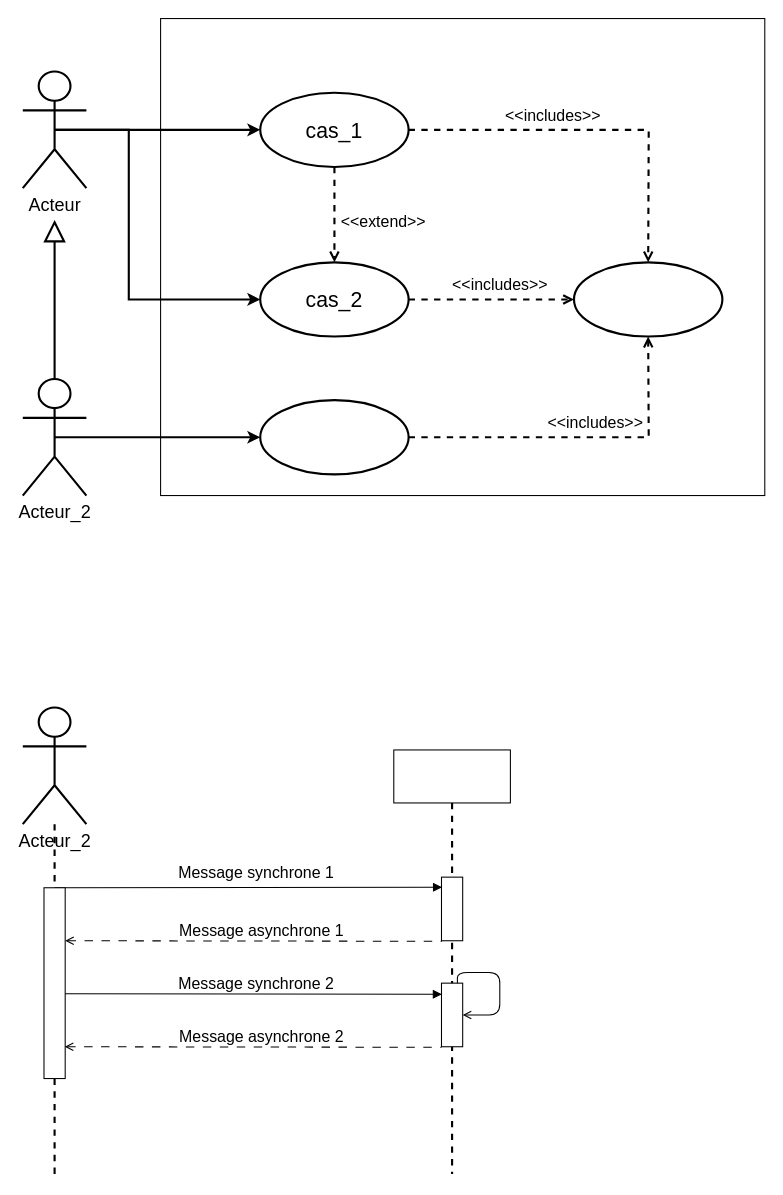
Image size: 783x1195. Some labels were removed from this diagram. The shapes that lost their labels are listed below. From the top down, each one's centre as x and y in pixels, then its label:
At [647,299]: "cas_4".
At [334,437]: "cas_3".
At [451,776]: "Object".
